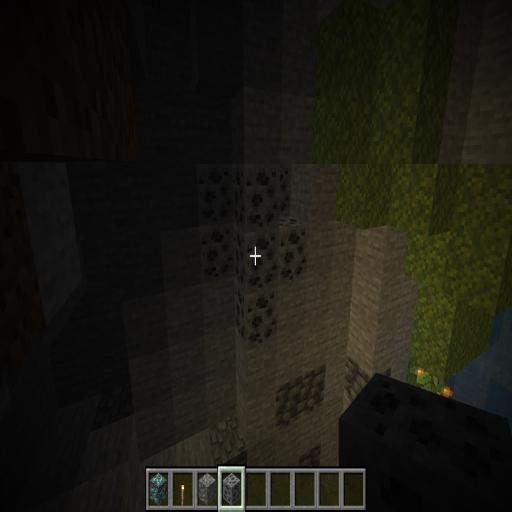coal ore: (197, 167, 278, 294), (278, 166, 309, 288), (234, 296, 278, 356)
